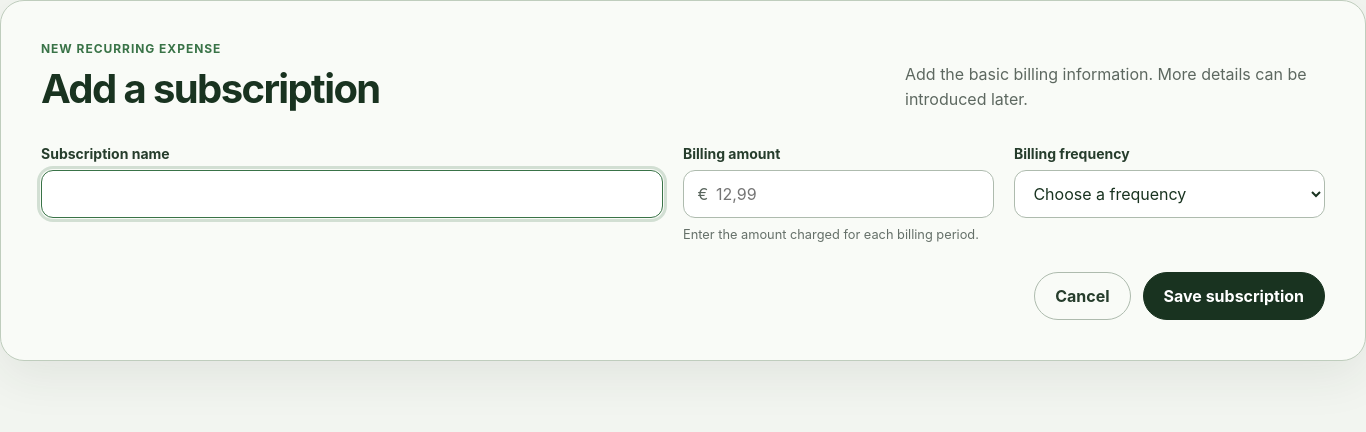
AddSubscriptionForm › shows validation errors for incomplete input
Click the button "Save subscription": [1234, 296] box [1142, 272, 1325, 320]
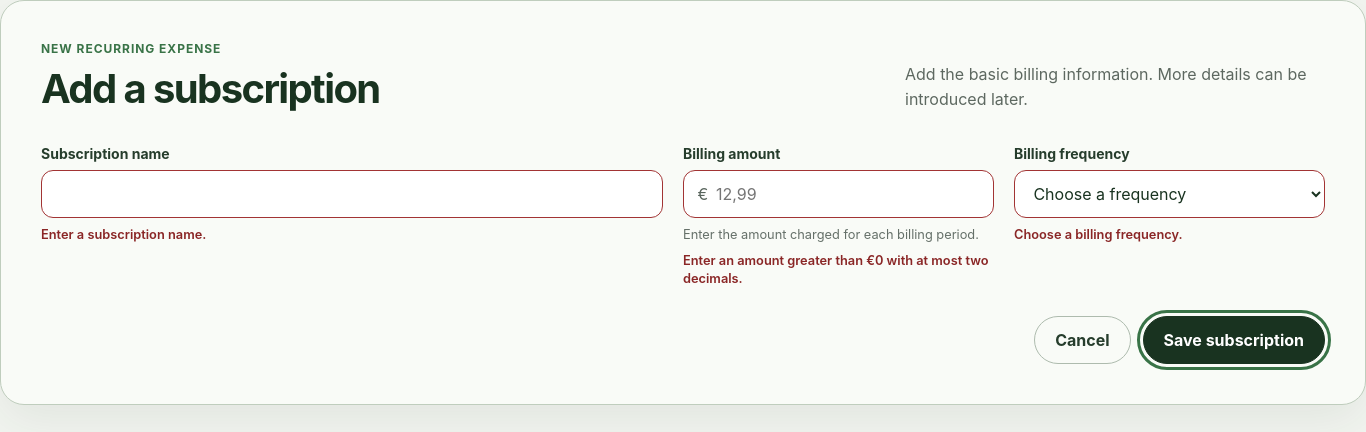
Expected: the text "Enter a subscription name." is shown, [41, 227, 206, 242]
Expected: the text "Enter an amount greater than €0 with at most two decimals." is shown, [683, 252, 994, 288]
Expected: the text "Choose a billing frequency." is shown, [1014, 227, 1182, 242]
